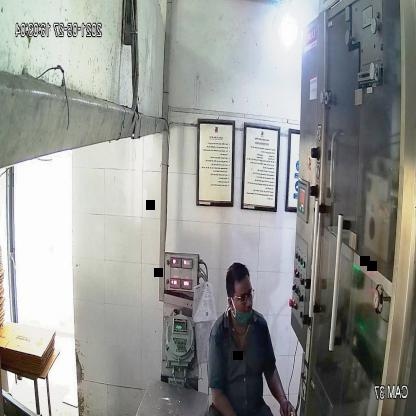goggles: (230, 286, 257, 308)
